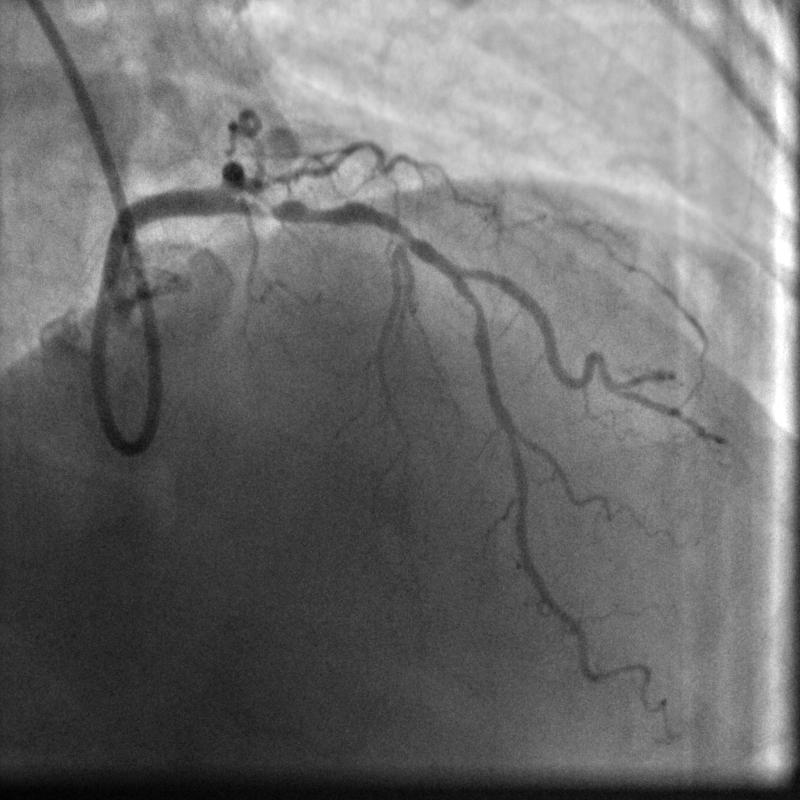Stenosis: (250, 189, 349, 226)
